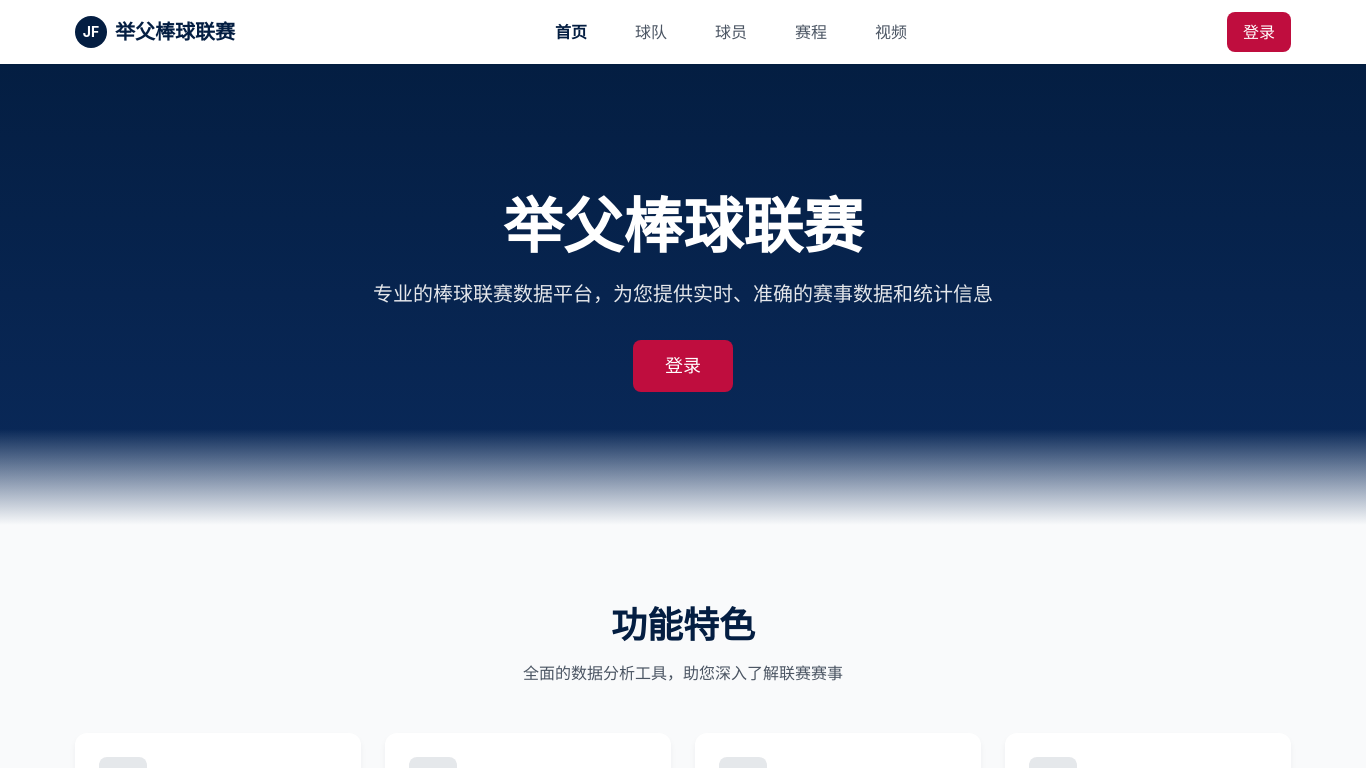
HomePage › opens login modal when login button is clicked
Click the button with test id "hero-login-button": click(683, 366) x1=633 y1=340 x2=733 y2=392
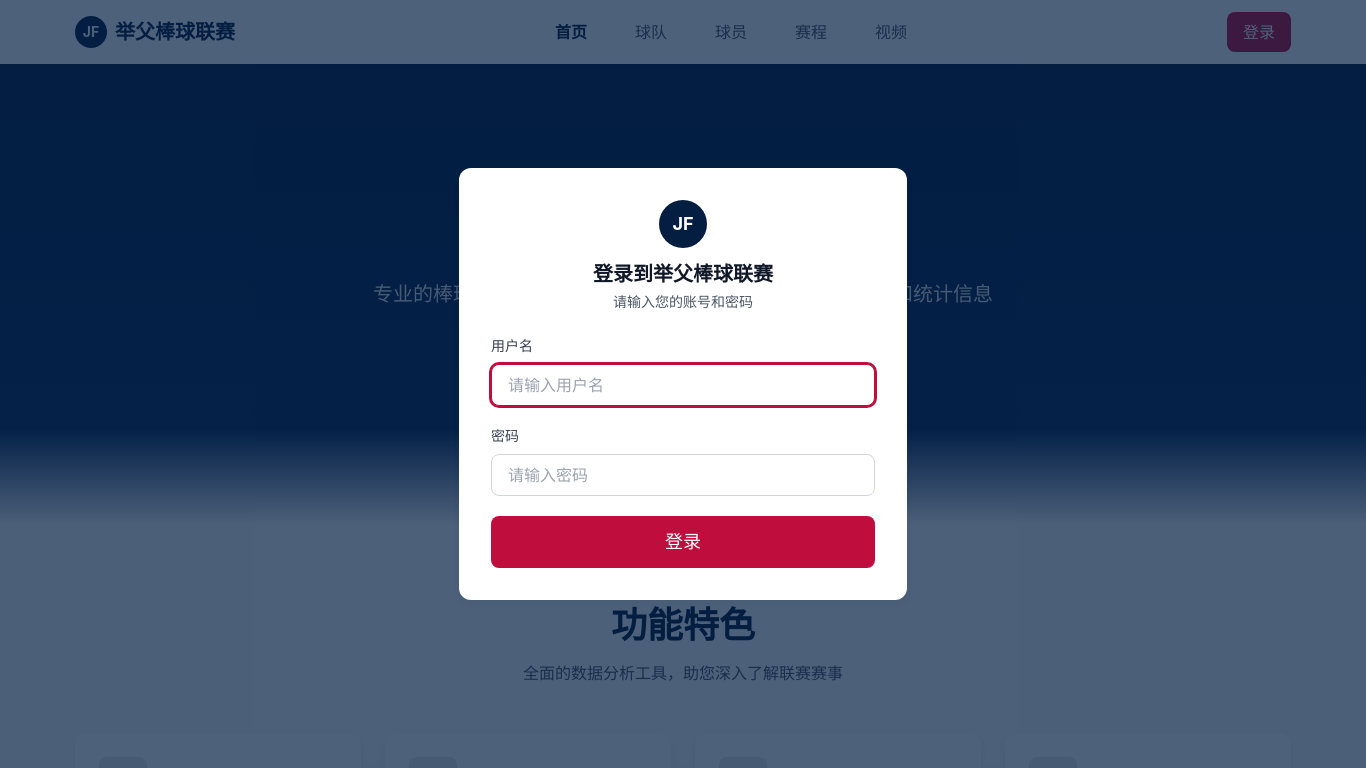
expect the dialog "登录" is shown: met
